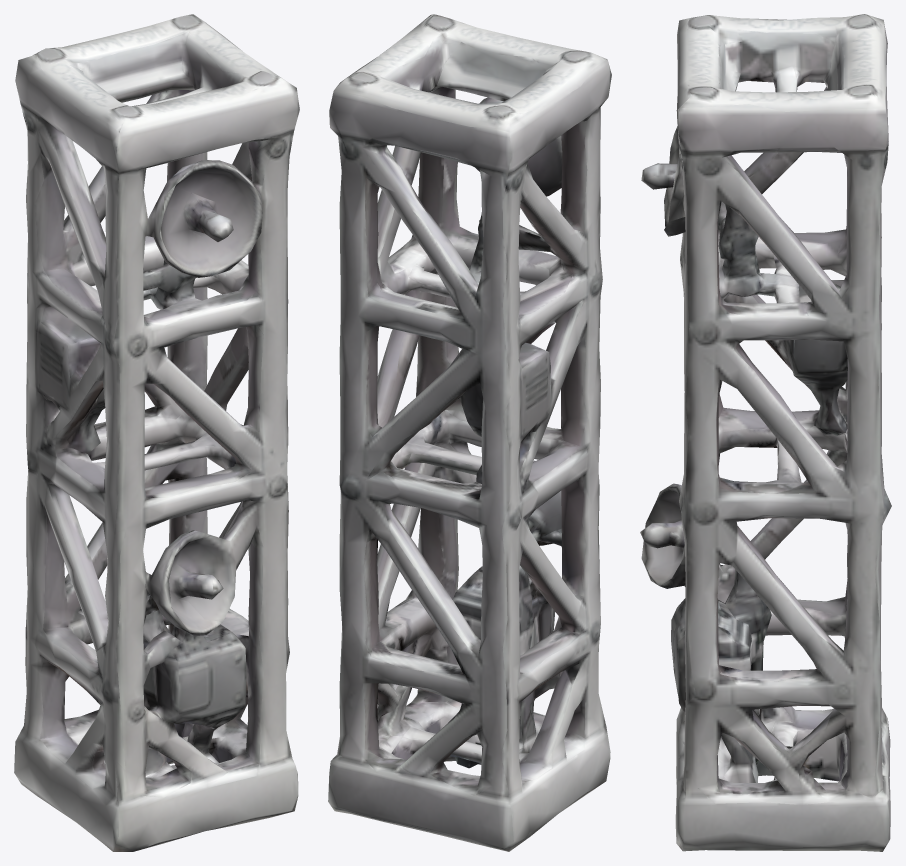
File: 남산_하부안테나_하양.glb
The picture shows the model from 3 angles, left to right: view 1: azimuth 30°, elevation 25°; view 2: azimuth 150°, elevation 25°; view 3: azimuth 270°, elevation 25°; orthographic projection. The views are drawn at different scales.
Visible parts, largest first — view 1: texture_mapping; view 2: texture_mapping; view 3: texture_mapping.
Boxes of the visible parts, x1,y1,x2,y2 form: texture_mapping: [14, 14, 299, 851]; texture_mapping: [328, 14, 611, 851]; texture_mapping: [640, 14, 891, 851].
Bounding box in the file's own units: 0.2653 × 0.9979 × 0.3015.
1 material, 1 textured.
